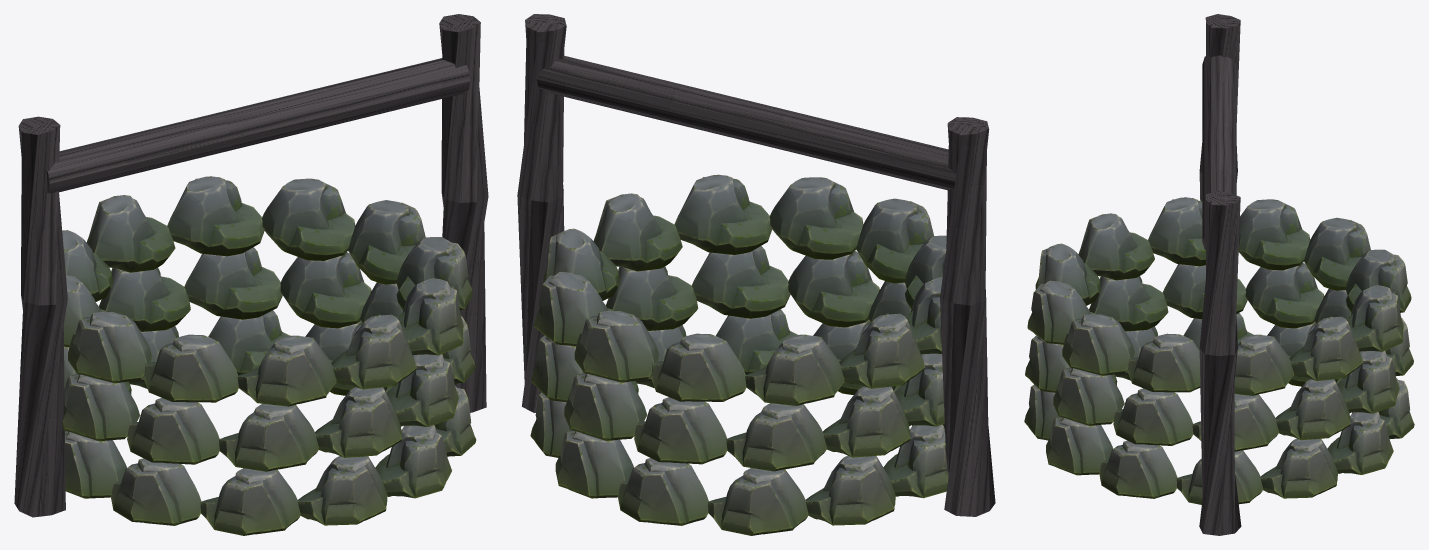
Rendered from Abandoned_Well_Barren.glb.
3 renders of one model, left to right at view 1: azimuth 30°, elevation 25°; view 2: azimuth 150°, elevation 25°; view 3: azimuth 270°, elevation 25°, orthographic. The views are drawn at different scales.
Visible parts, largest first — view 1: Structure; view 2: Structure; view 3: Structure.
Boxes of the visible parts, left/top/right/bottom form: Structure: left=14, top=14, right=488, bottom=535; Structure: left=517, top=14, right=995, bottom=535; Structure: left=1024, top=14, right=1414, bottom=535.
Size of the model in its own units: 2.43 by 1.91 by 2.05.
2 materials, 2 textured.
